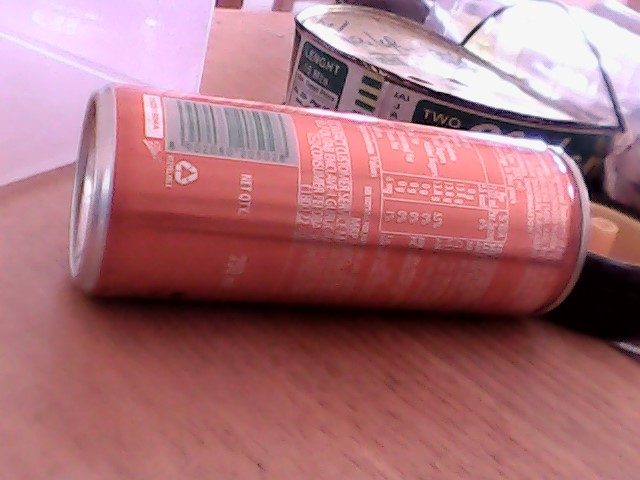Metal: (73, 85, 589, 324)
